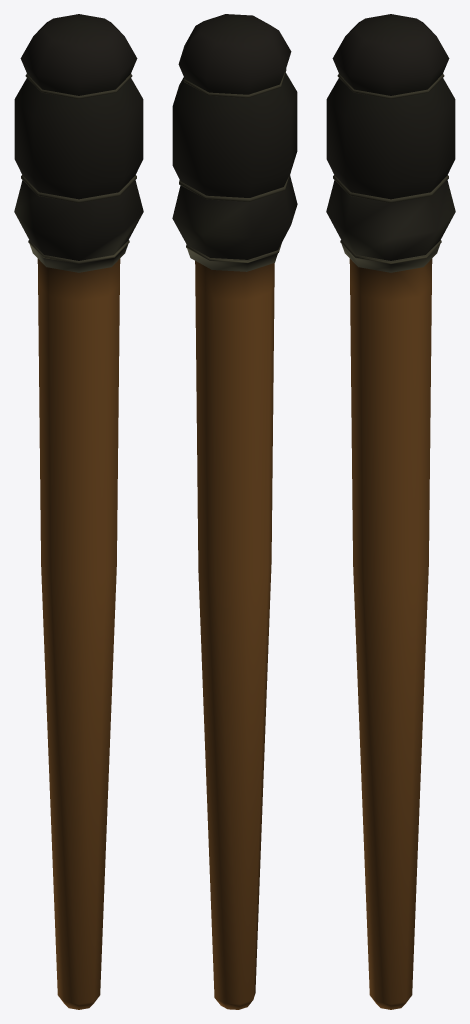
Rendered from Tocha.fbx.
3 renders of one model, left to right at view 1: azimuth 90°, elevation 25°; view 2: azimuth 150°, elevation 25°; view 3: azimuth 270°, elevation 25°, orthographic.
Parts seen in each view (by area): view 1: Tocha; view 2: Tocha; view 3: Tocha.
Part boxes in pixels (bbox=[...]): Tocha: bbox=[14, 14, 143, 1009]; Tocha: bbox=[172, 14, 297, 1009]; Tocha: bbox=[326, 14, 455, 1009].
Size of the model in its own units: 5.96 by 49.79 by 5.96.
